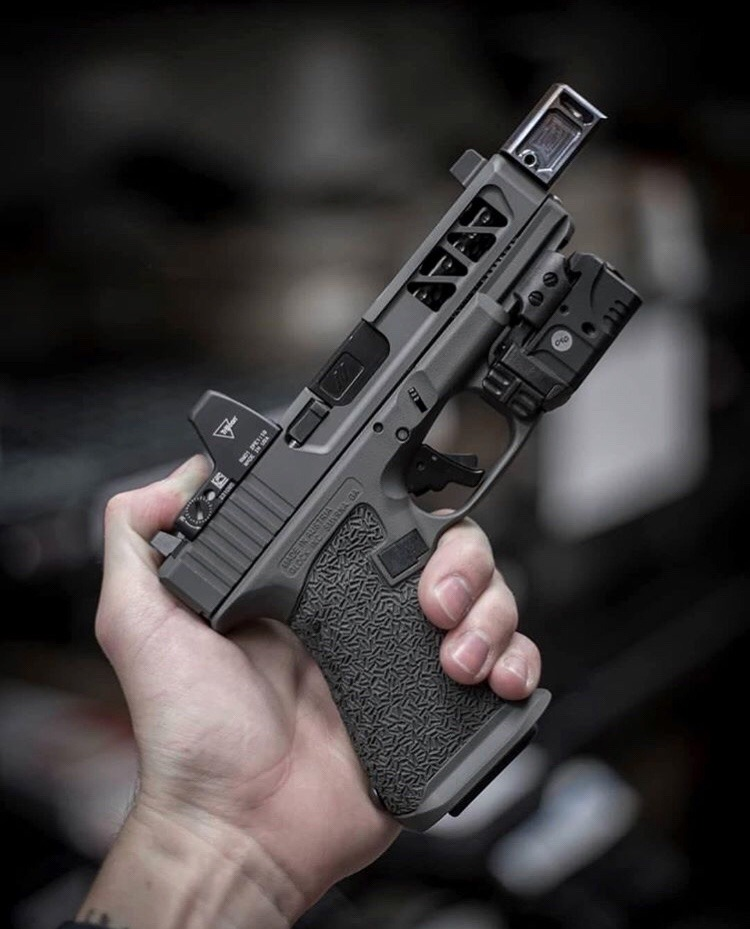gun: (157, 73, 655, 843)
